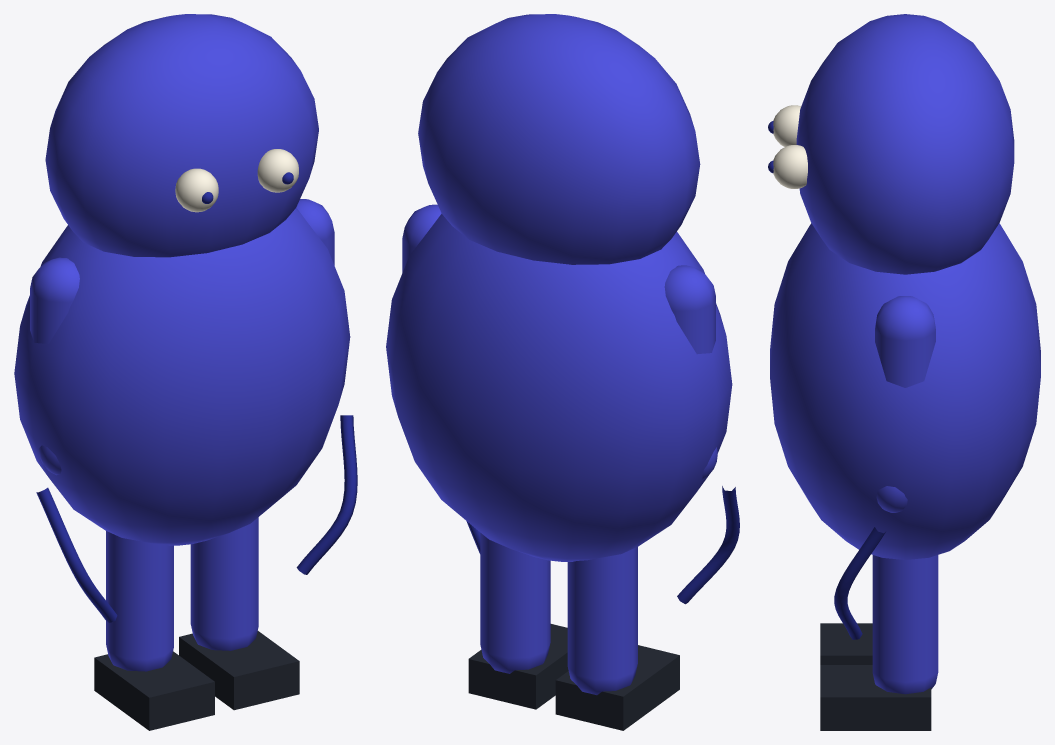
File: profile-video.glb
The picture shows the model from 3 angles, left to right: view 1: azimuth 30°, elevation 25°; view 2: azimuth 150°, elevation 25°; view 3: azimuth 270°, elevation 25°; orthographic projection. The views are drawn at different scales.
Visible parts, largest first — view 1: soft-body, soft-head, left-leg-mesh, right-leg-mesh, left-shoe, right-shoe, surface-detail (×2), left-sleeve, white-eye (×2), right-sleeve; view 2: soft-body, soft-head, left-leg-mesh, right-leg-mesh, left-shoe, right-shoe, left-sleeve, surface-detail, right-sleeve; view 3: soft-body, soft-head, right-leg-mesh, right-shoe, right-sleeve, white-eye (×2), left-shoe, surface-detail, right-hand-mesh.
Boxes of the visible parts, <box> form: soft-body: <box>14,207,350,545</box>; soft-head: <box>45,14,318,257</box>; left-leg-mesh: <box>106,531,173,671</box>; right-leg-mesh: <box>190,517,258,650</box>; left-shoe: <box>94,651,214,730</box>; right-shoe: <box>179,631,299,710</box>; surface-detail (×2): <box>36,415,357,622</box>; left-sleeve: <box>30,257,79,343</box>; white-eye (×2): <box>175,149,298,212</box>; right-sleeve: <box>296,199,334,265</box>; soft-body: <box>386,213,732,561</box>; soft-head: <box>418,14,700,264</box>; left-leg-mesh: <box>567,547,637,695</box>; right-leg-mesh: <box>480,532,550,673</box>; left-shoe: <box>555,645,679,730</box>; right-shoe: <box>468,624,568,709</box>; left-sleeve: <box>664,265,715,354</box>; surface-detail: <box>677,486,739,604</box>; right-sleeve: <box>402,204,441,272</box>; soft-body: <box>770,223,1040,559</box>; soft-head: <box>796,14,1014,274</box>; right-leg-mesh: <box>872,555,938,694</box>; right-shoe: <box>820,665,931,730</box>; right-sleeve: <box>875,296,935,387</box>; white-eye (×2): <box>773,105,807,188</box>; left-shoe: <box>820,623,872,664</box>; surface-detail: <box>834,527,885,639</box>; right-hand-mesh: <box>876,486,907,512</box>.
Size of the model in its own units: 1.49 by 2.98 by 1.11.
